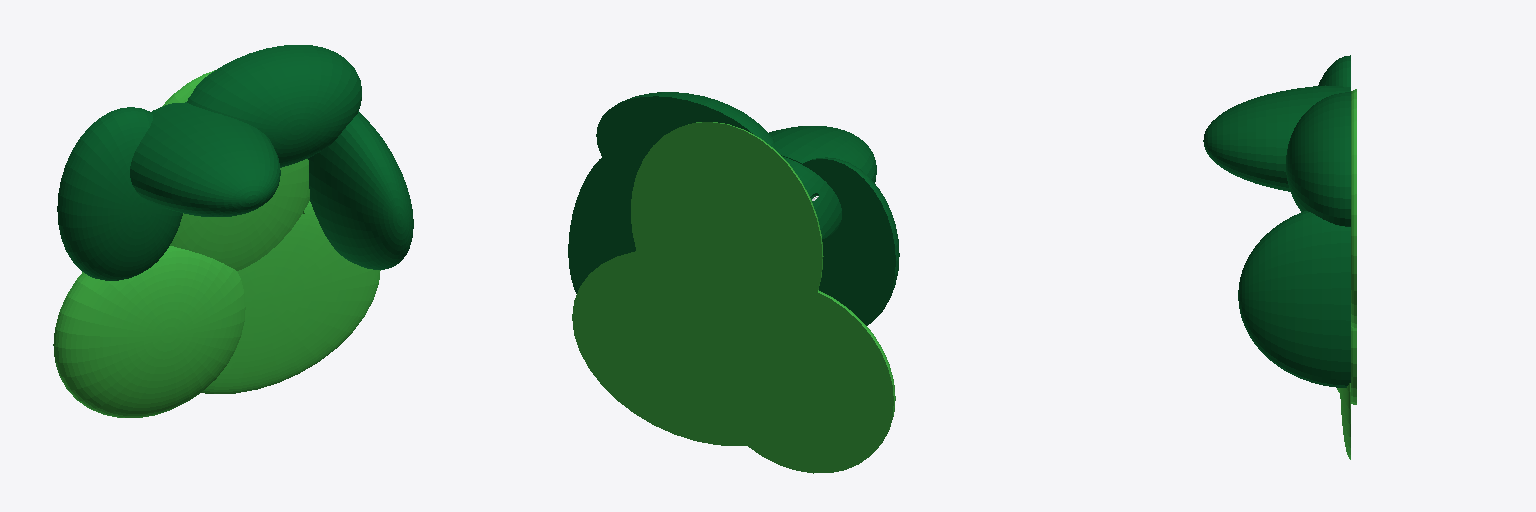
File: tinker.obj
The picture shows the model from 3 angles: view 1: azimuth 30°, elevation 25°; view 2: azimuth 150°, elevation 25°; view 3: azimuth 270°, elevation 25°; orthographic projection.
Visible parts, largest first — view 1: obj_0; view 2: obj_0; view 3: obj_0.
Boxes of the visible parts, x1,y1,x2,y2 form: obj_0: [53, 45, 413, 417]; obj_0: [568, 92, 899, 473]; obj_0: [1203, 55, 1356, 459].
Bounding box in the file's own units: 327 × 324 × 132.